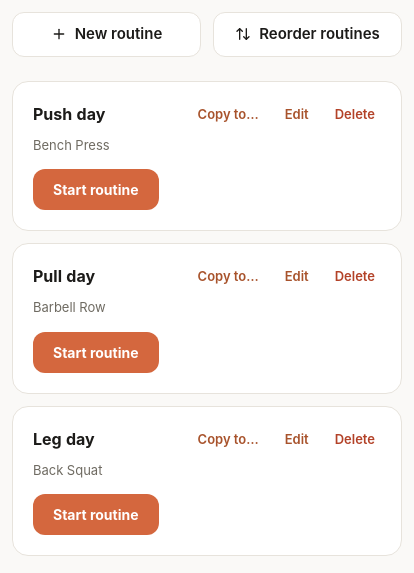
Scenario: RoutinesTab reordering › swaps the row actions for grip handles on entering the mode, and back again on Done
Expected: the number of buttons "Start routine" is 3, 33,169 -> 158,210; 33,332 -> 158,373; 33,494 -> 158,535
Click the button "Reorder routines".
click(308, 34)  # box 213,12 -> 402,57
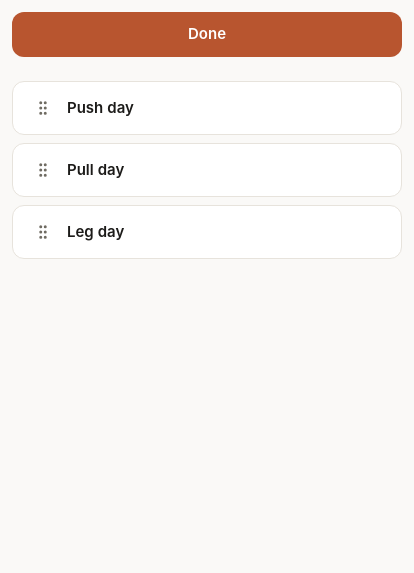
Now the button "Start routine" is gone
Now the button "New routine" is gone
Now the button named "Reorder: Push day (1 of 3)" is shown, box 23,88 -> 63,128
Click the button "Done".
click(207, 34)  # box 12,12 -> 402,57
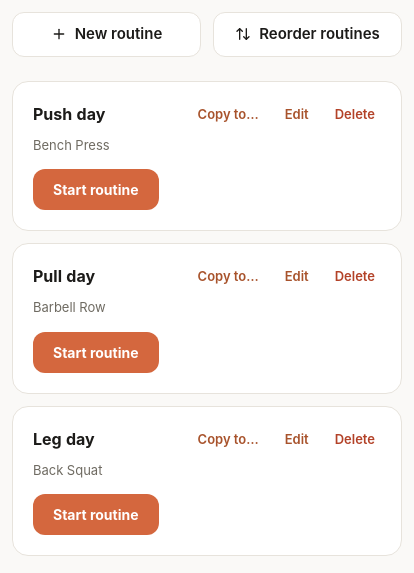
Now the number of buttons "Start routine" is 3, box 33,169 -> 158,210; 33,332 -> 158,373; 33,494 -> 158,535
